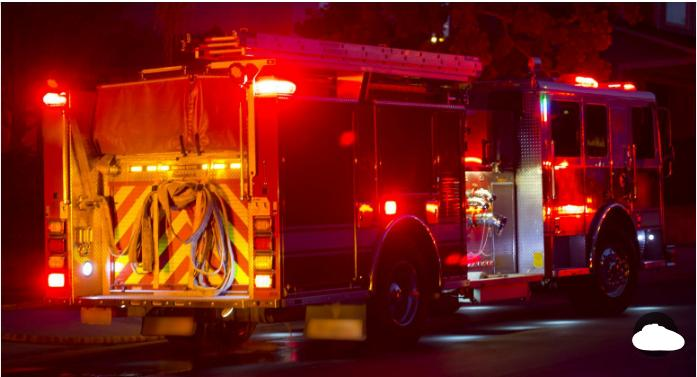firetruck_on: (31, 29, 671, 353)
